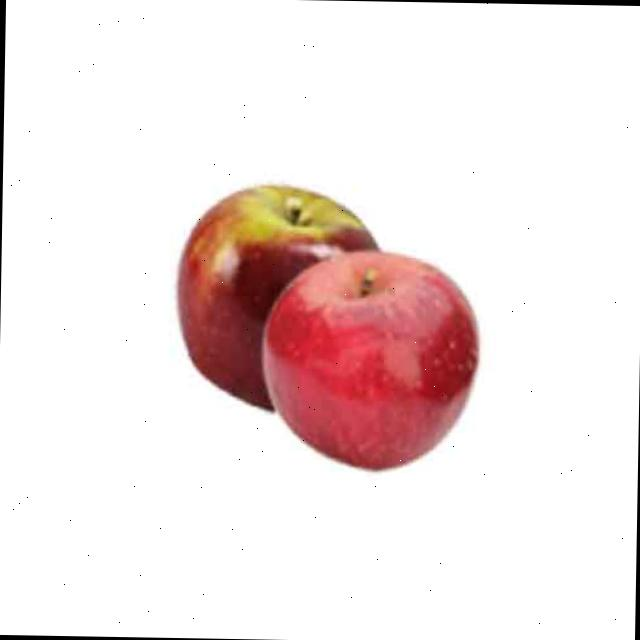Apel: (258, 247, 482, 472), (174, 180, 380, 412)
